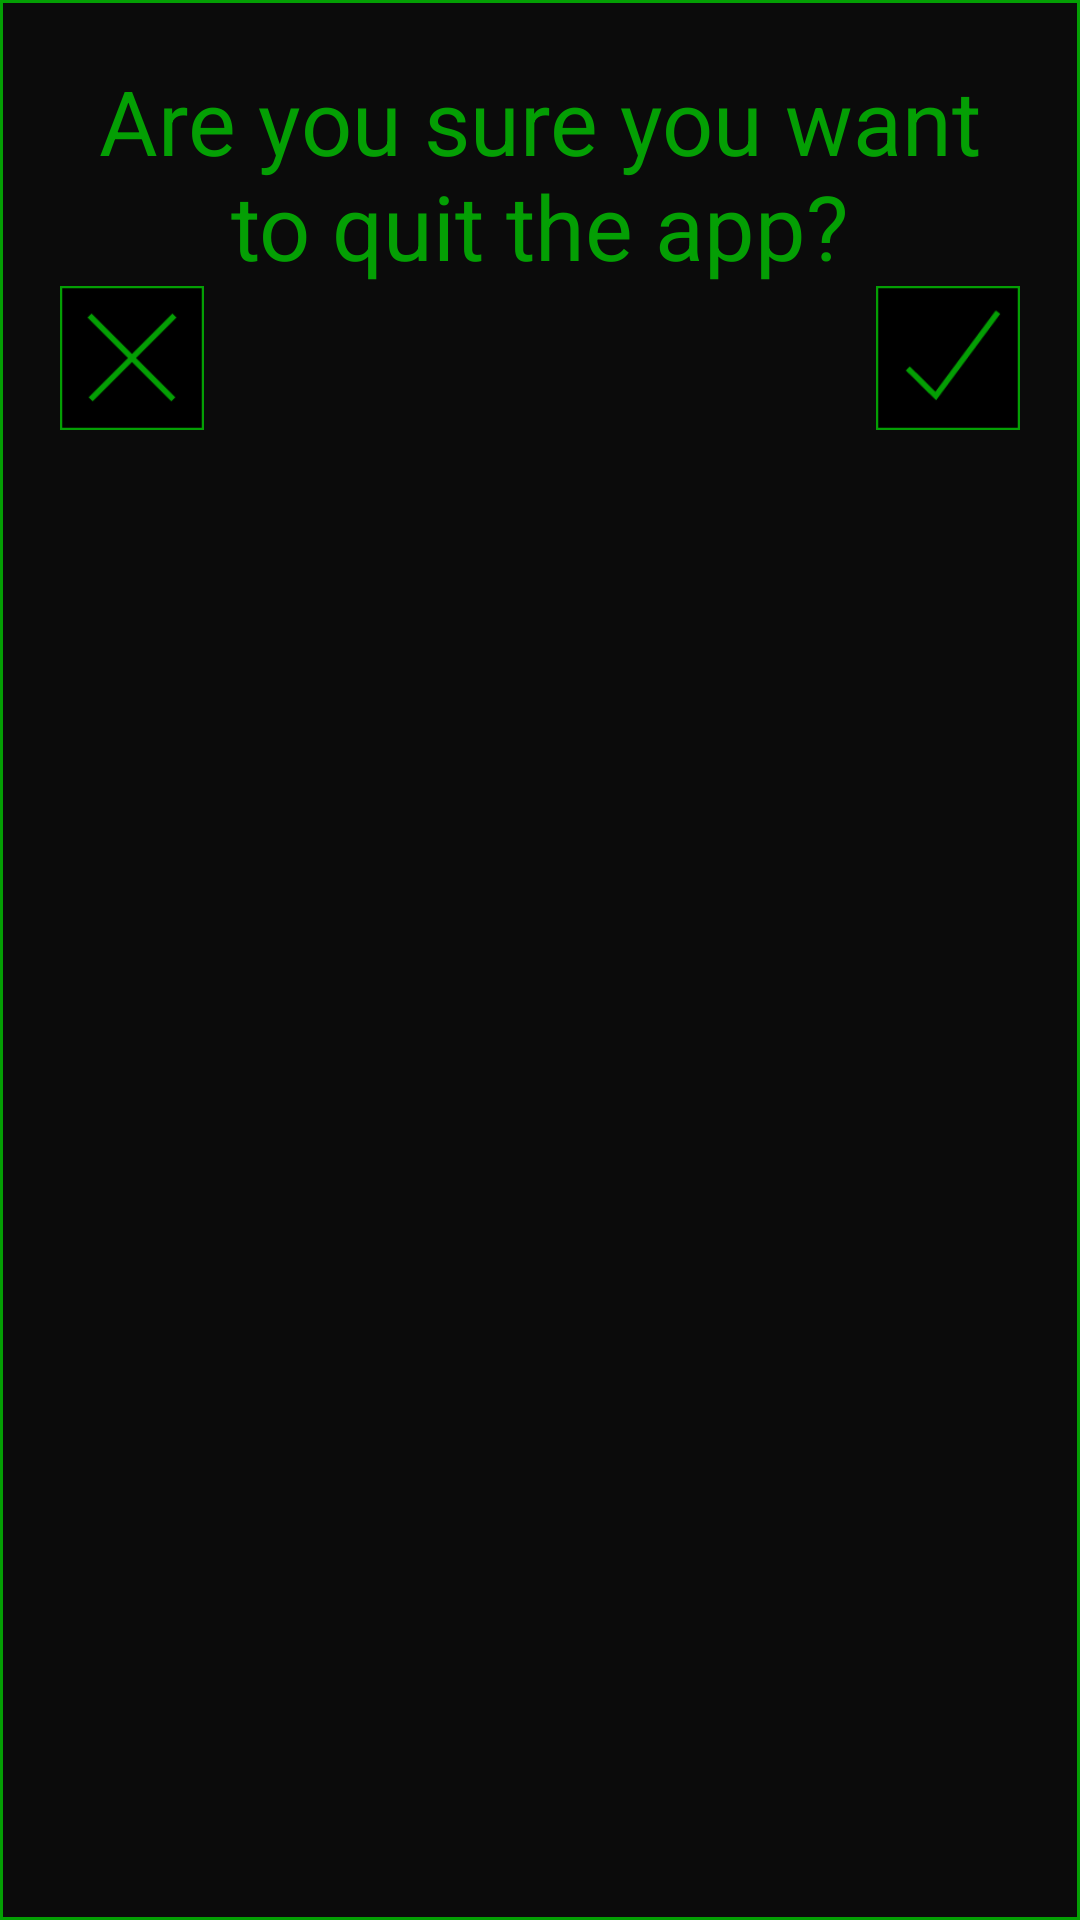

Icon click points for this 1080px×1920px phone screenshot, format point (x, y):
No: point (132, 358)
Yes: point (948, 358)
